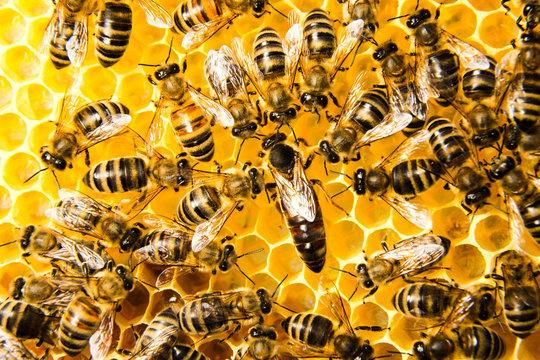Queen-Bee: (237, 127, 347, 289)
worker-bee: (147, 63, 231, 161), (40, 87, 130, 170), (128, 224, 259, 281), (58, 262, 133, 359), (397, 9, 472, 106), (347, 229, 446, 297), (50, 180, 143, 252), (174, 152, 254, 235), (425, 116, 491, 216), (83, 152, 192, 212), (243, 25, 307, 123), (372, 39, 432, 142), (291, 4, 345, 117), (484, 148, 540, 246), (205, 46, 261, 140), (390, 281, 503, 327), (285, 302, 374, 360), (175, 288, 273, 336), (349, 157, 448, 203), (402, 324, 520, 360), (16, 225, 110, 270), (493, 250, 540, 337), (42, 0, 93, 77), (508, 27, 540, 141), (91, 0, 130, 68)
